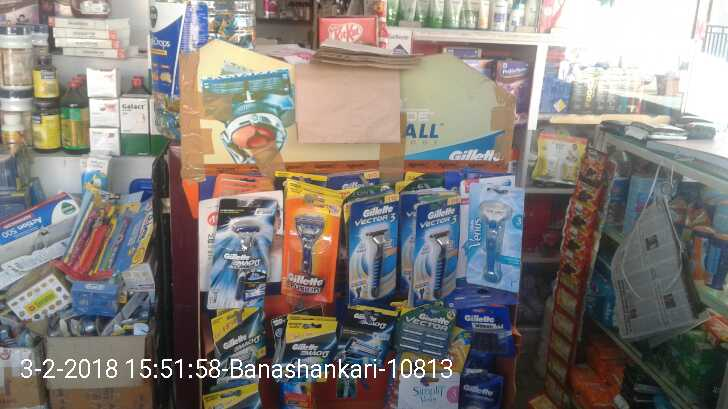beauty: (204, 197, 279, 309), (465, 182, 527, 296), (285, 189, 343, 306), (346, 193, 404, 301), (411, 194, 459, 313), (338, 310, 391, 374), (281, 313, 335, 375), (401, 310, 453, 366)
